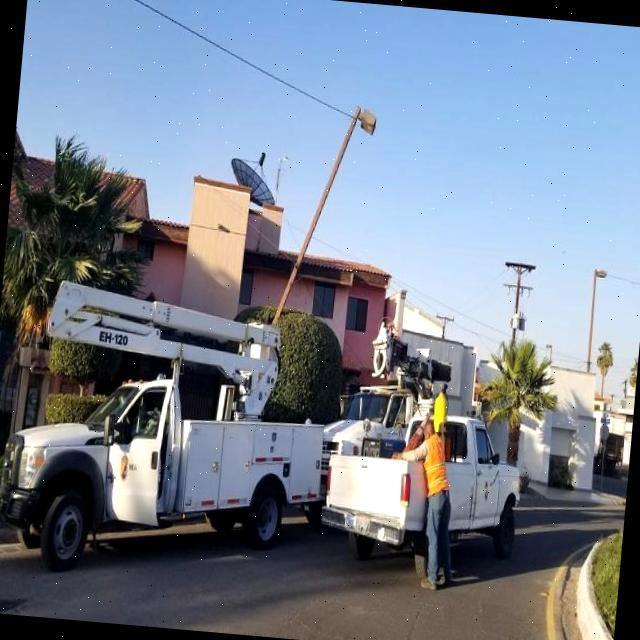Broken Pole: (271, 105, 377, 323)
